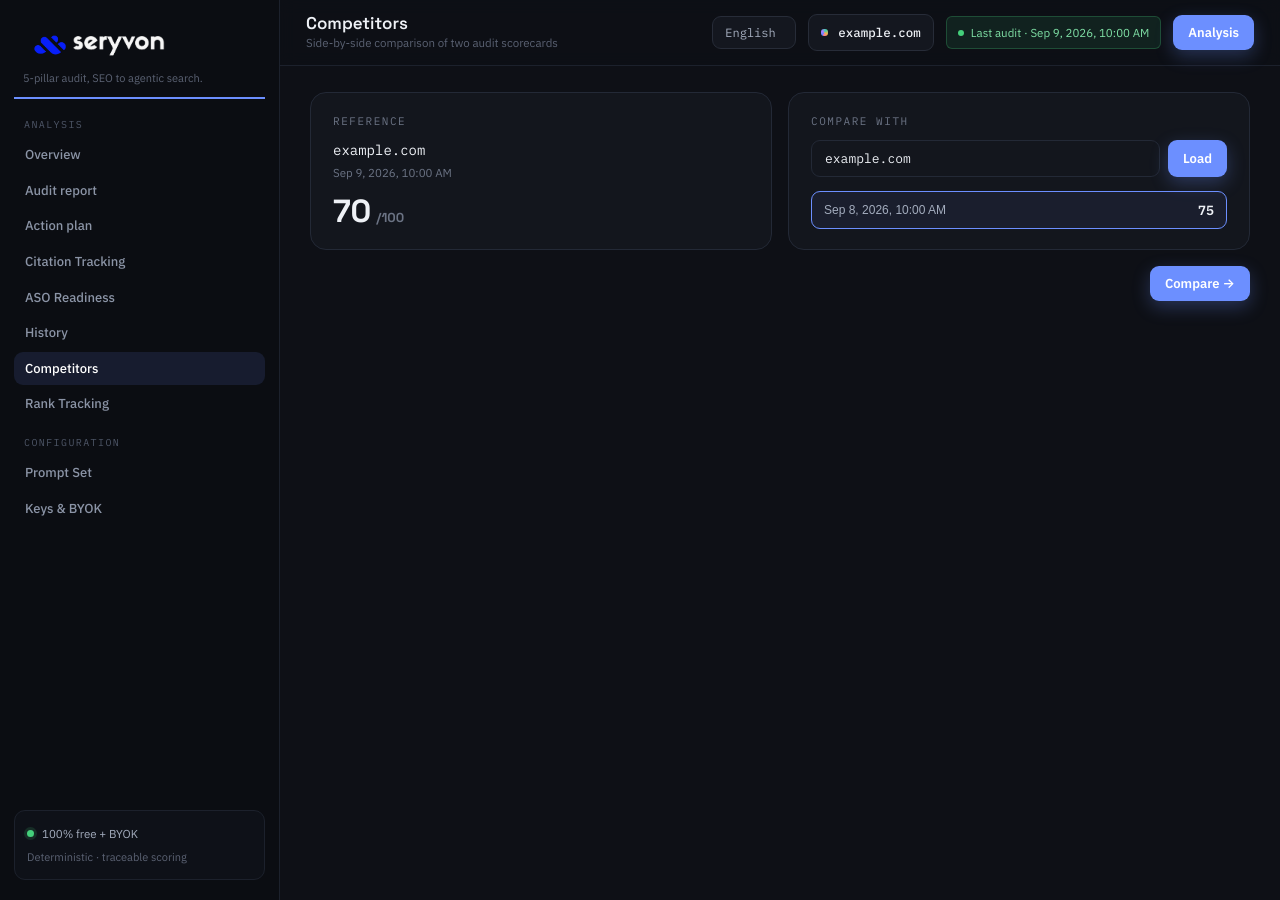
Test: shows an error when comparison execution fails
This screenshot has width=1280, height=900.
Click the button "Compare →" at (1200, 283), box [1150,266,1250,300]
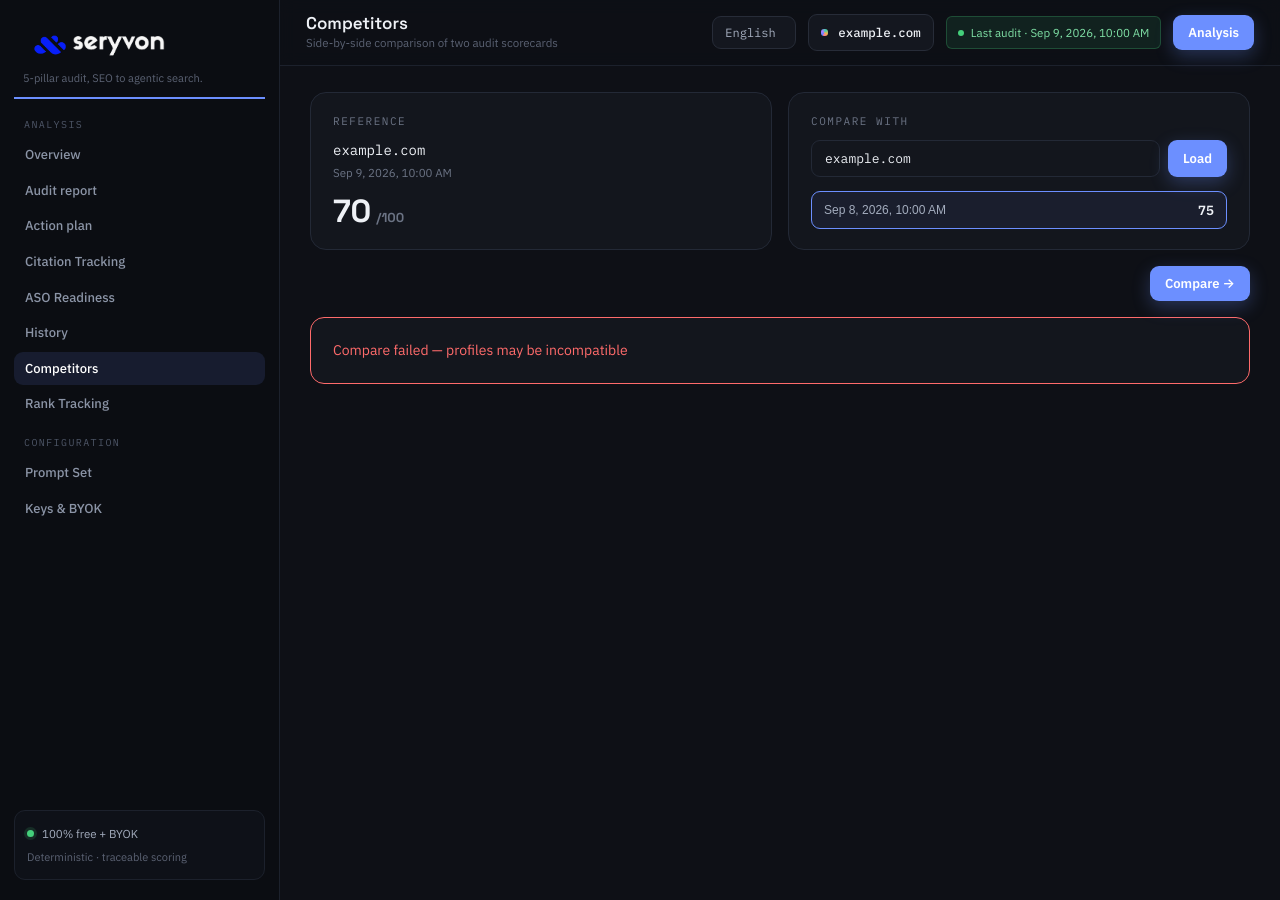
Now the text "Compare failed — profiles may be incompatible" is shown, box [310,316,1250,384]
